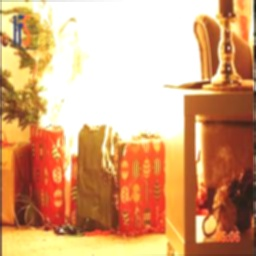fire: (28, 1, 229, 149)
